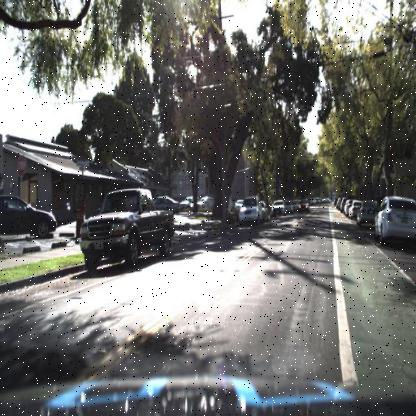car: (78, 181, 175, 272), (0, 193, 57, 247), (371, 184, 415, 252), (372, 191, 416, 251), (152, 188, 180, 218), (238, 193, 262, 225), (355, 198, 379, 230), (359, 194, 377, 228), (268, 198, 287, 219), (154, 196, 178, 212), (295, 196, 309, 220), (257, 196, 269, 223), (349, 197, 359, 225), (297, 196, 312, 214), (280, 198, 294, 217), (292, 198, 301, 218), (345, 198, 351, 220), (341, 196, 347, 214)
